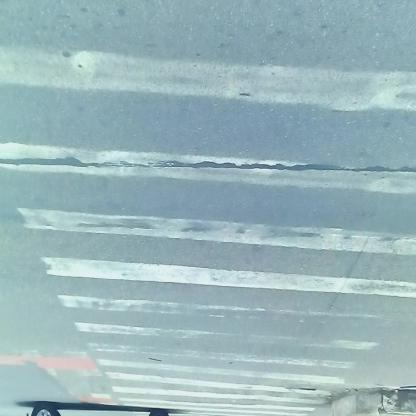crosswalk: (49, 13, 416, 403)
